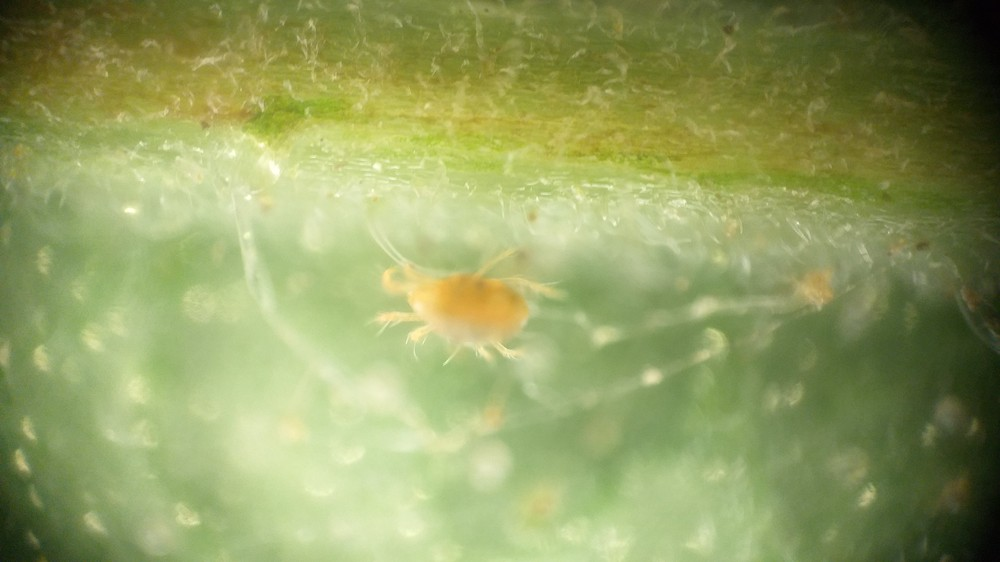Aracnido Rojo: (359, 236, 581, 380)
